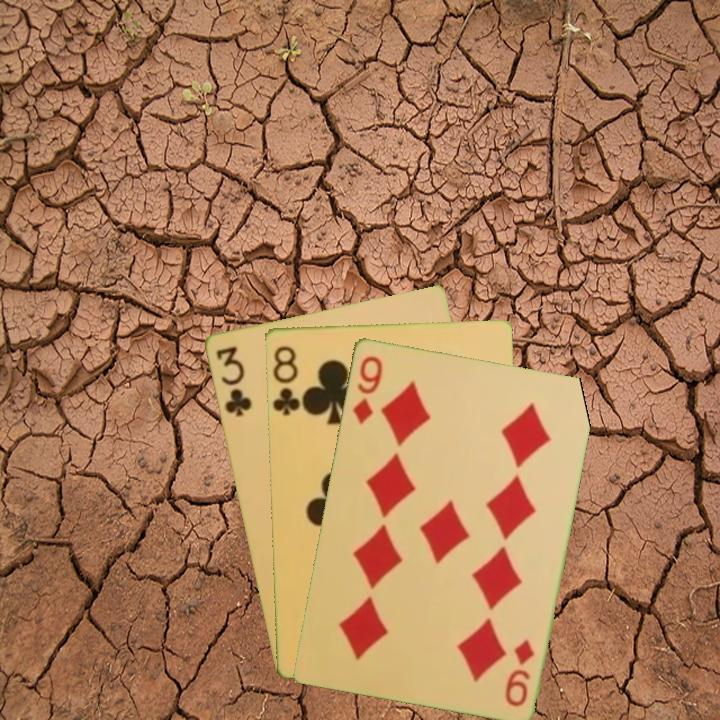3c: (212, 342, 254, 419)
8c: (268, 341, 305, 418)
9d: (348, 352, 385, 427), (501, 635, 537, 709)
